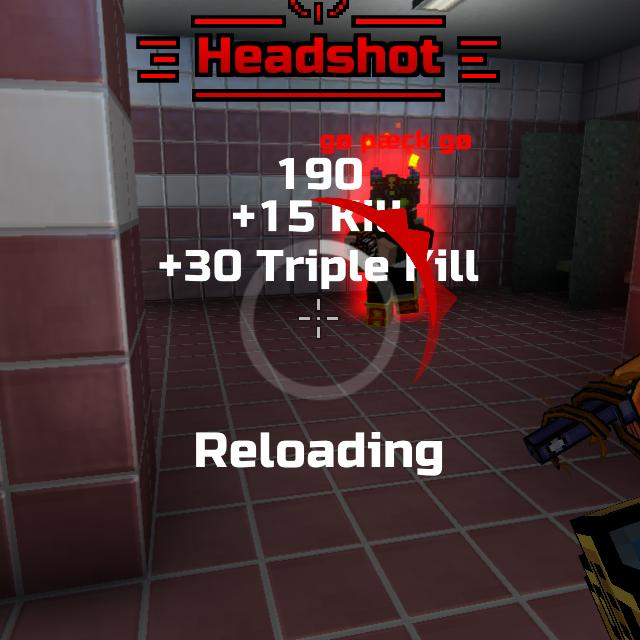Enemy: (343, 179, 435, 327)
